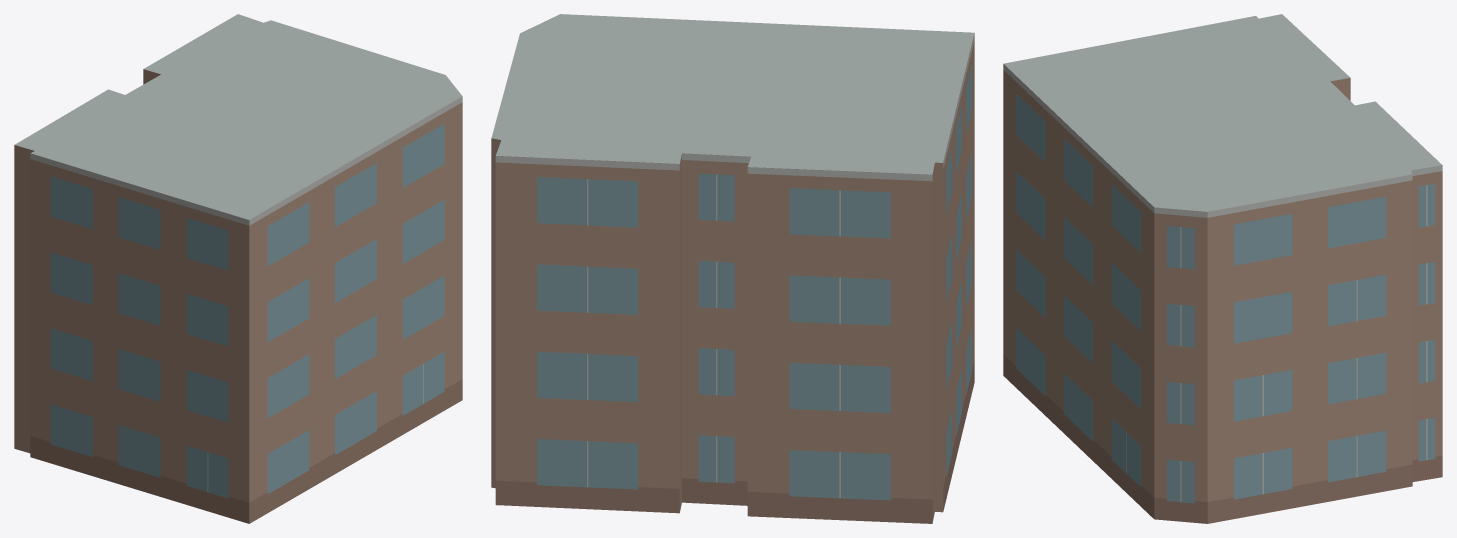
File: survey-upis-32741452.glb
3 renders of one model, left to right at view 1: azimuth 30°, elevation 25°; view 2: azimuth 150°, elevation 25°; view 3: azimuth 270°, elevation 25°, orthographic. The views are drawn at different scales.
Parts seen in each view (by area): view 1: survey-upis-32741452.tmp; view 2: survey-upis-32741452.tmp; view 3: survey-upis-32741452.tmp.
Part boxes in pixels (x1,y1,x2,y2): survey-upis-32741452.tmp: (14,14,462,523); survey-upis-32741452.tmp: (491,14,974,523); survey-upis-32741452.tmp: (1003,14,1442,523).
Bounding box in the file's own units: 17.57 × 12.9 × 16.48.
